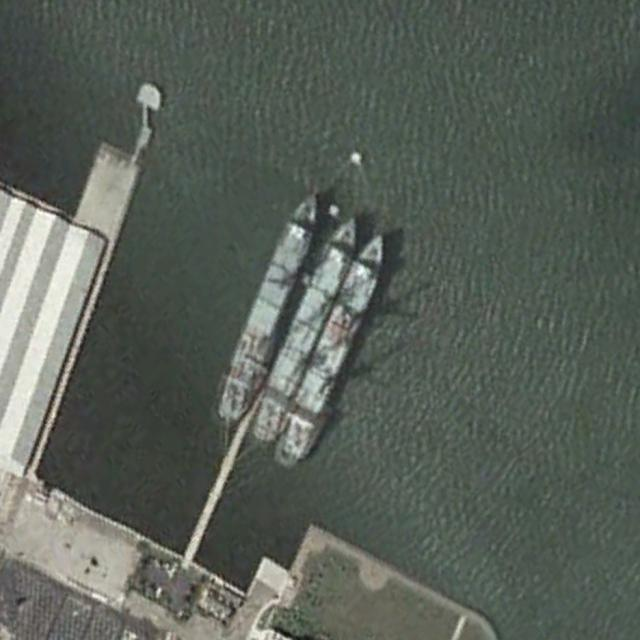Other Ship: (271, 222, 396, 479), (210, 179, 333, 430), (244, 203, 367, 451)
